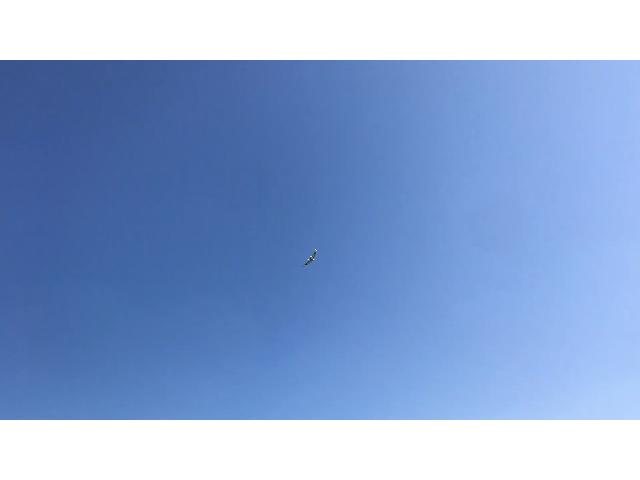Anti-Drone: (296, 242, 324, 274)
